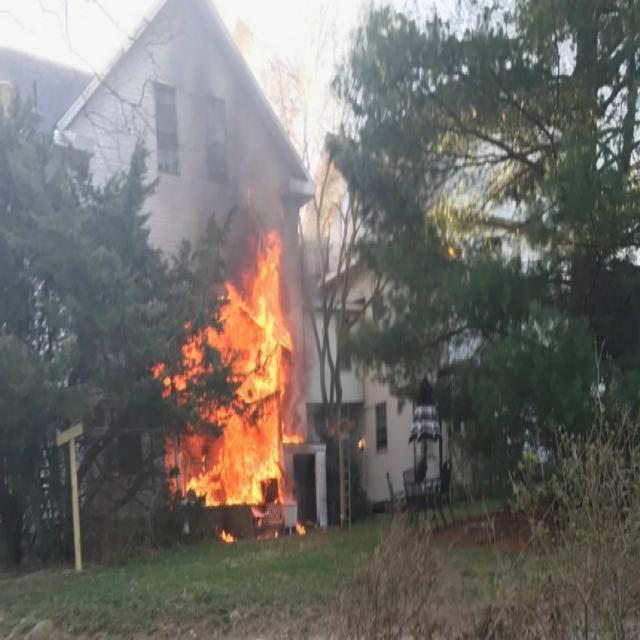fire: (198, 243, 298, 511)
